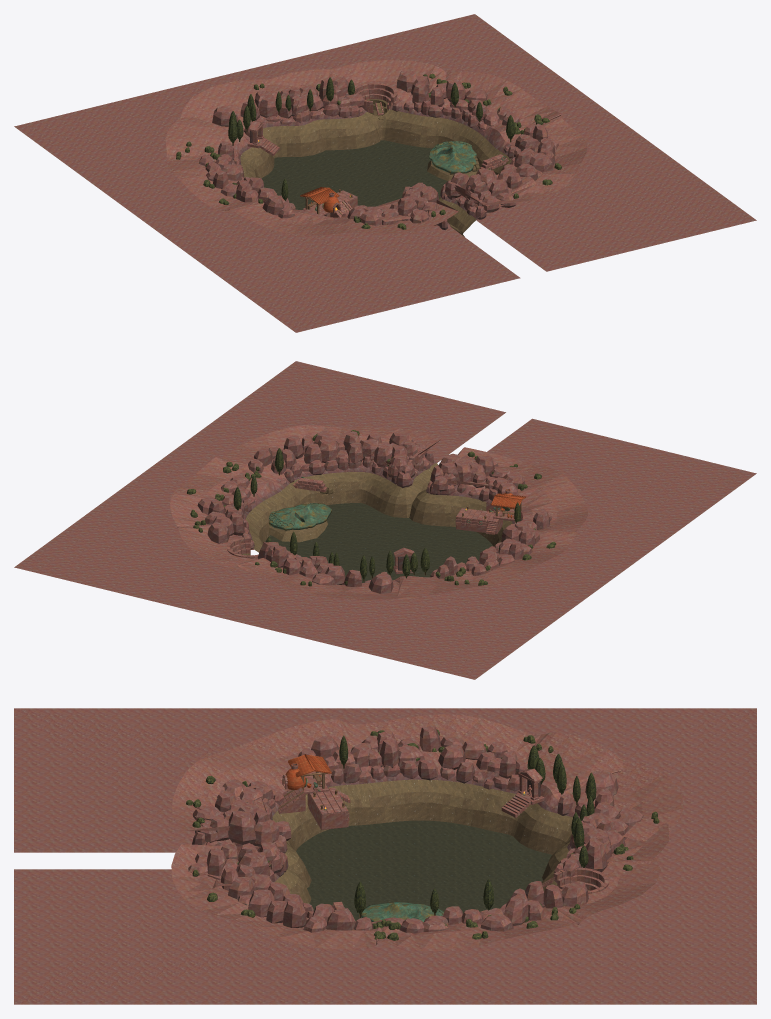
Rendered from bronze-harbor.glb.
The picture shows the model from 3 angles, top to bottom: view 1: azimuth 30°, elevation 25°; view 2: azimuth 150°, elevation 25°; view 3: azimuth 270°, elevation 25°; orthographic projection. The views are drawn at different scales.
Parts seen in each view (by area): view 1: South_Limestone, North_Limestone, West_Limestone, East_Limestone, North_Seabed, East_Seabed, West_Seabed, North_Foliage, Landmark_Bronze_Face_Bronze, East_Foliage, South_Seabed, South_Terracotta; view 2: South_Limestone, North_Limestone, West_Limestone, East_Limestone, East_Seabed, South_Seabed, West_Seabed, North_Foliage, Landmark_Bronze_Face_Bronze, East_Foliage; view 3: South_Limestone, North_Limestone, East_Limestone, West_Limestone, West_Seabed, East_Seabed, North_Seabed, South_Seabed, North_Foliage, East_Foliage, Landmark_Bronze_Face_Bronze, South_Terracotta (+1 smaller).
Boxes of the visible parts, box(x1,y1,x2,y2) form: South_Limestone: box(234, 137, 756, 332); North_Limestone: box(14, 14, 506, 165); West_Limestone: box(14, 126, 357, 332); East_Limestone: box(438, 14, 756, 220); North_Seabed: box(240, 99, 434, 182); East_Seabed: box(266, 117, 511, 209); West_Seabed: box(241, 148, 447, 209); North_Foliage: box(176, 73, 470, 159); Landmark_Bronze_Face_Bronze: box(429, 141, 476, 173); East_Foliage: box(450, 82, 549, 139); South_Seabed: box(439, 197, 476, 236); South_Terracotta: box(300, 187, 339, 212); South_Limestone: box(241, 361, 756, 533); North_Limestone: box(14, 494, 509, 679); West_Limestone: box(455, 473, 756, 679); East_Limestone: box(14, 361, 326, 567); East_Seabed: box(245, 478, 485, 579); South_Seabed: box(304, 463, 512, 546); West_Seabed: box(277, 508, 502, 580); North_Foliage: box(190, 509, 487, 586); Landmark_Bronze_Face_Bronze: box(269, 503, 331, 530); East_Foliage: box(187, 448, 283, 509); South_Limestone: box(14, 708, 334, 1004); North_Limestone: box(492, 708, 756, 1004); East_Limestone: box(15, 901, 755, 1004); West_Limestone: box(15, 708, 755, 829); West_Seabed: box(324, 779, 503, 919); East_Seabed: box(325, 822, 498, 920); North_Seabed: box(497, 790, 589, 907); South_Seabed: box(272, 794, 324, 910); North_Foliage: box(501, 735, 659, 928); East_Foliage: box(354, 879, 494, 940); Landmark_Bronze_Face_Bronze: box(361, 902, 444, 922); South_Terracotta: box(285, 754, 331, 789).
Size of the model in its own units: 84 by 10.71 by 89.
Materials: 10 (9 with a texture image).
